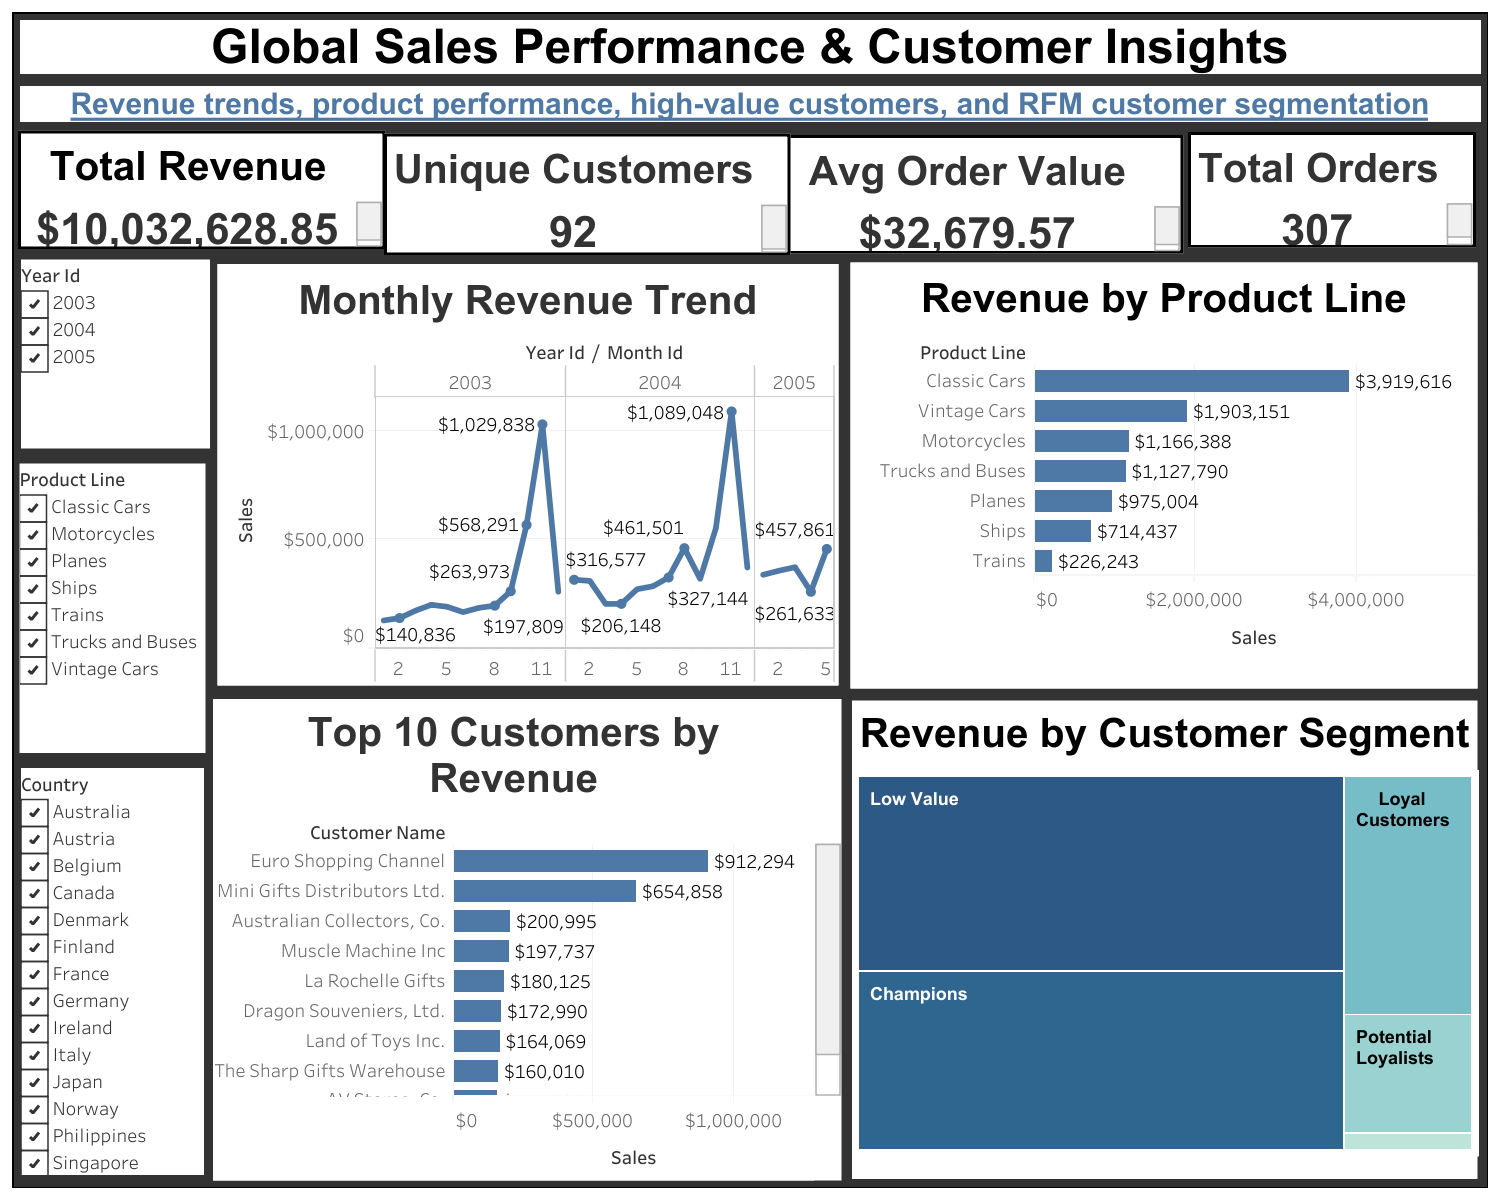

This screenshot's page, from the dashboard's own definition file:
{"tool":"tableau","page":{"name":"Global Sales Performance & Customer Insights","canvas":[1000,800],"ordinal":0},"visuals":[{"type":"title","box":[9,9,982,44]},{"type":"text","box":[9,53,982,32]},{"type":"legend","title":"Revenue by Customer Segment","param":"[federated.0jmew071ld52l11bd3la816gf9jw].[sum:TOTAL_REVENUE:qk]","box":[9,85,982,22]},{"type":"worksheet","title":"KPI – Total Revenue","mark":"Text","box":[12,87,245,79]},{"type":"worksheet","title":"KPI – Total Orders","mark":"Text","box":[792,88,192,77]},{"type":"worksheet","title":"KPI – Unique Customers","mark":"Text","box":[256,89,271,81]},{"type":"worksheet","title":"KPI – Avg Order Value","mark":"Text","box":[519,90,270,79]},{"type":"filter","title":"KPI – Avg Order Value","param":"[federated.10hvzjs0ferwjy12rjnsm1cxu5uh].[none:YEAR_ID:ok]","box":[14,173,126,126]},{"type":"worksheet","title":"Revenue by Product Line","mark":"Bar","rows":["PRODUCT_LINE"],"cols":["SALES"],"box":[567,175,418,284]},{"type":"worksheet","title":"Monthly Revenue Trend","mark":"Line","rows":["SALES"],"cols":["YEAR_ID","MONTH_ID"],"box":[145,176,414,281]},{"type":"filter","title":"KPI – Avg Order Value","param":"[federated.10hvzjs0ferwjy12rjnsm1cxu5uh].[none:PRODUCT_LINE:nk]","box":[13,309,124,193]},{"type":"worksheet","title":"Top 10 Customers by Revenue","mark":"Bar","rows":["CUSTOMER_NAME"],"cols":["SALES"],"box":[142,466,419,321]},{"type":"worksheet","title":"Revenue by Customer Segment","mark":"Automatic","box":[568,467,417,319]},{"type":"filter","title":"KPI – Avg Order Value","param":"[federated.10hvzjs0ferwjy12rjnsm1cxu5uh].[none:COUNTRY:nk]","box":[14,512,122,271]}]}

Visuals, with their boxes in screenshot pixels (x1, y1, x2, y2), scaled from the page's 1000x800 canvas onto the 1499x1199 screenshot:
title: box(13, 13, 1486, 79)
text: box(13, 79, 1486, 127)
"Revenue by Customer Segment" legend: box(13, 127, 1486, 160)
"KPI – Total Revenue" worksheet (Text marks): box(18, 130, 385, 249)
"KPI – Total Orders" worksheet (Text marks): box(1187, 132, 1475, 247)
"KPI – Unique Customers" worksheet (Text marks): box(384, 133, 790, 255)
"KPI – Avg Order Value" worksheet (Text marks): box(778, 135, 1183, 253)
"KPI – Avg Order Value" filter: box(21, 259, 210, 448)
"Revenue by Product Line" worksheet (Bar marks): box(850, 262, 1477, 688)
"Monthly Revenue Trend" worksheet (Line marks): box(217, 264, 838, 685)
"KPI – Avg Order Value" filter: box(19, 463, 205, 752)
"Top 10 Customers by Revenue" worksheet (Bar marks): box(213, 698, 841, 1180)
"Revenue by Customer Segment" worksheet: box(851, 700, 1477, 1178)
"KPI – Avg Order Value" filter: box(21, 767, 204, 1174)
